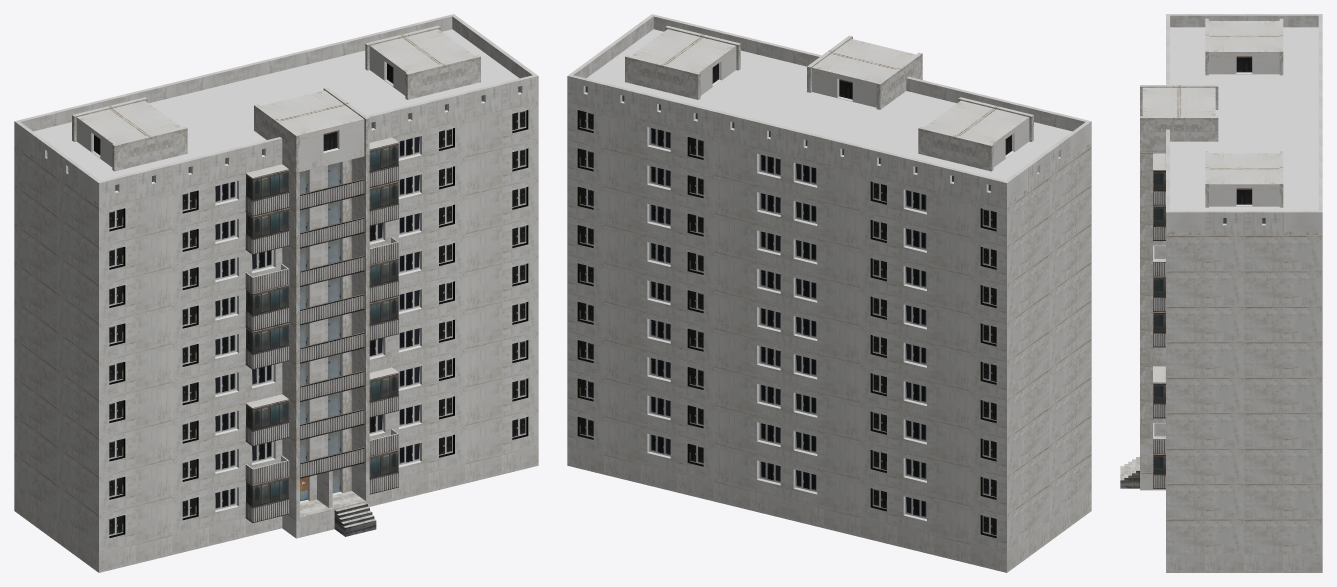
The picture shows the model from 3 angles, left to right: view 1: azimuth 30°, elevation 25°; view 2: azimuth 150°, elevation 25°; view 3: azimuth 270°, elevation 25°; orthographic projection. The views are drawn at different scales.
Parts seen in each view (by area): view 1: Plane.003, Main Roof.012, Main Roof.011, Main Roof.009, Main Windows.011, Balcony Full.008, Balcony Full.009, Main Windows.018, Main Windows.009, Main Entrance.003, Main Windows.012, Main Windows.016 (+88 smaller); view 2: Plane.003, Main Roof.012, Main Roof.011, Main Roof.010, Wall.041, Wall.051, Wall.069, Wall.062, Wall.068, Window Big.054, Wall.036, Wall.038 (+86 smaller); view 3: Plane.003, Main Roof.011, Main Roof.012, Wall Wide.022, Wall Wide.021, Wall Wide.023, Wall Wide.024, Wall Wide.026, Wall Wide.027, Wall Wide.028, Wall Wide.029, Wall Wide.030 (+37 smaller).
Boxes of the visible parts, left/top/right/bottom form: Plane.003: left=33, top=29, right=519, bottom=180; Main Roof.012: left=109, top=34, right=444, bottom=162; Main Roof.011: left=72, top=25, right=480, bottom=171; Main Roof.009: left=275, top=102, right=369, bottom=174; Main Windows.011: left=282, top=348, right=369, bottom=404; Balcony Full.008: left=245, top=367, right=398, bottom=446; Balcony Full.009: left=245, top=137, right=398, bottom=216; Main Windows.018: left=282, top=233, right=369, bottom=289; Main Windows.009: left=282, top=424, right=369, bottom=480; Main Entrance.003: left=288, top=463, right=369, bottom=519; Main Windows.012: left=288, top=156, right=369, bottom=212; Main Windows.016: left=288, top=271, right=369, bottom=327; Plane.003: left=586, top=29, right=1072, bottom=180; Main Roof.012: left=661, top=34, right=996, bottom=162; Main Roof.011: left=625, top=25, right=1033, bottom=171; Main Roof.010: left=807, top=51, right=901, bottom=109; Wall.041: left=714, top=405, right=860, bottom=479; Wall.051: left=714, top=290, right=860, bottom=364; Wall.069: left=714, top=175, right=860, bottom=249; Wall.062: left=604, top=187, right=970, bottom=314; Wall.068: left=604, top=149, right=970, bottom=276; Window Big.054: left=640, top=119, right=933, bottom=228; Wall.036: left=604, top=379, right=970, bottom=506; Wall.038: left=604, top=302, right=970, bottom=429; Plane.003: left=1170, top=27, right=1318, bottom=210; Main Roof.011: left=1205, top=18, right=1283, bottom=207; Main Roof.012: left=1205, top=35, right=1283, bottom=168; Wall Wide.022: left=1244, top=519, right=1322, bottom=555; Wall Wide.021: left=1166, top=519, right=1244, bottom=555; Wall Wide.023: left=1166, top=484, right=1244, bottom=519; Wall Wide.024: left=1244, top=484, right=1322, bottom=519; Wall Wide.026: left=1244, top=449, right=1322, bottom=484; Wall Wide.027: left=1166, top=413, right=1244, bottom=448; Wall Wide.028: left=1244, top=413, right=1322, bottom=448; Wall Wide.029: left=1166, top=236, right=1244, bottom=271; Wall Wide.030: left=1244, top=236, right=1322, bottom=271.
Size of the model in its own units: 3600 by 3150 by 1550.
